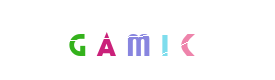1: (101, 0, 181, 80)
A: (66, 0, 146, 80)
C: (133, 0, 213, 80)
G: (37, 0, 117, 80)
M: (97, 0, 177, 80)
